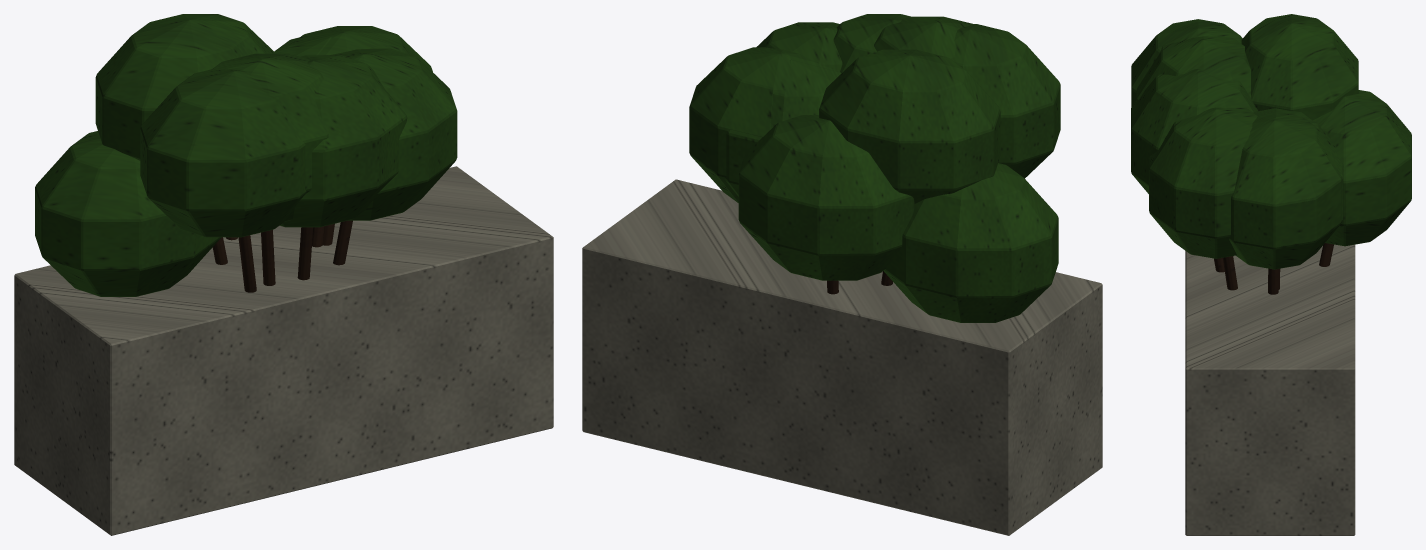
Rendered from PROP-595EFDBBC346_lod1.glb.
The picture shows the model from 3 angles, left to right: view 1: azimuth 30°, elevation 25°; view 2: azimuth 150°, elevation 25°; view 3: azimuth 270°, elevation 25°; orthographic projection. The views are drawn at different scales.
Parts seen in each view (by area): view 1: planter.001, foliage.014, plant_stem.014; view 2: planter.001, foliage.014; view 3: foliage.014, planter.001, plant_stem.014.
Part boxes in pixels (x1=…): planter.001: x1=14, y1=166, x2=553, y2=535; foliage.014: x1=35, y1=14, x2=457, y2=296; plant_stem.014: x1=212, y1=220, x2=352, y2=292; planter.001: x1=582, y1=179, x2=1102, y2=535; foliage.014: x1=689, y1=14, x2=1060, y2=322; foliage.014: x1=1131, y1=14, x2=1411, y2=269; planter.001: x1=1185, y1=244, x2=1355, y2=535; plant_stem.014: x1=1214, y1=243, x2=1333, y2=294.
Size of the model in its own units: 1.47 by 1.37 by 0.9094.
Materials: 4 (4 with a texture image).
